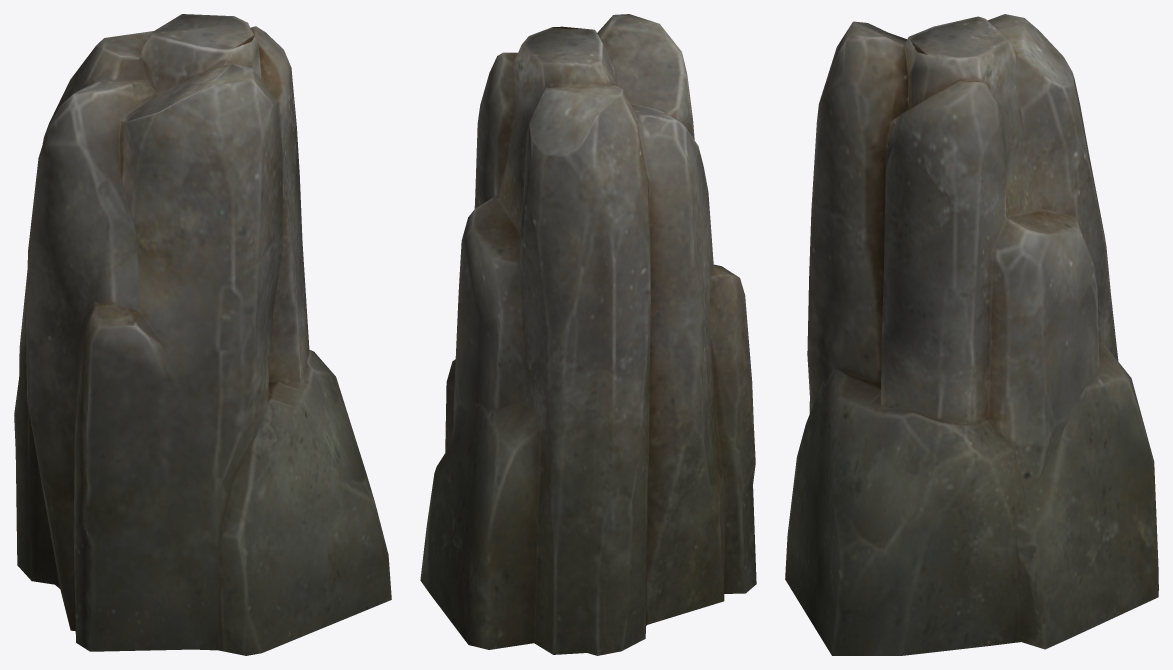
Rendered from rocks5.fbx.
3 views of the same model, side by side, from view 1: azimuth 30°, elevation 25°; view 2: azimuth 150°, elevation 25°; view 3: azimuth 270°, elevation 25° (orthographic). The views are drawn at different scales.
Parts seen in each view (by area): view 1: rock05; view 2: rock05; view 3: rock05.
Boxes of the visible parts, x1,y1,x2,y2 form: rock05: (14, 14, 391, 655); rock05: (420, 14, 756, 655); rock05: (785, 14, 1158, 655).
Bounding box in the file's own units: 244 × 454 × 276.
1 material, 1 textured.
